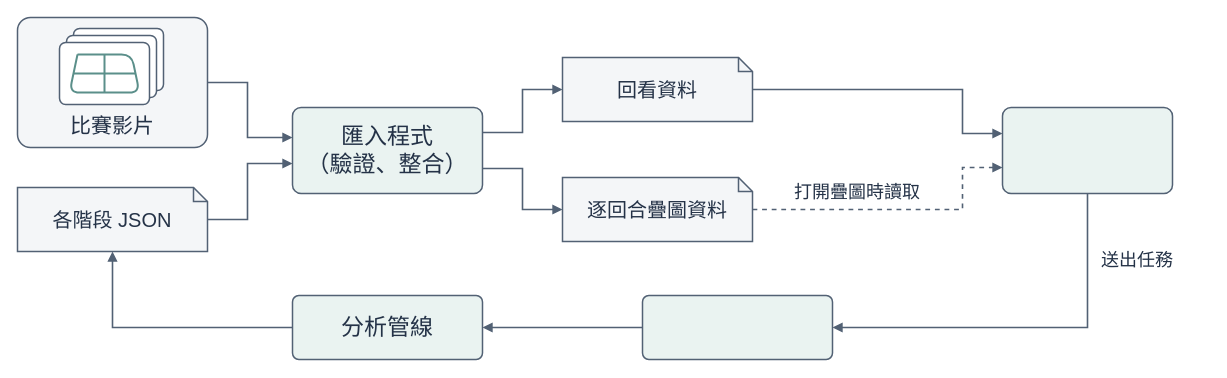
Some shapes in this 1227 by 378 pixel diagram are drawn without their labels. Each missing label, with the centre of its shape:
使用者介面: (1087,150)
本機分析服務: (737,327)
